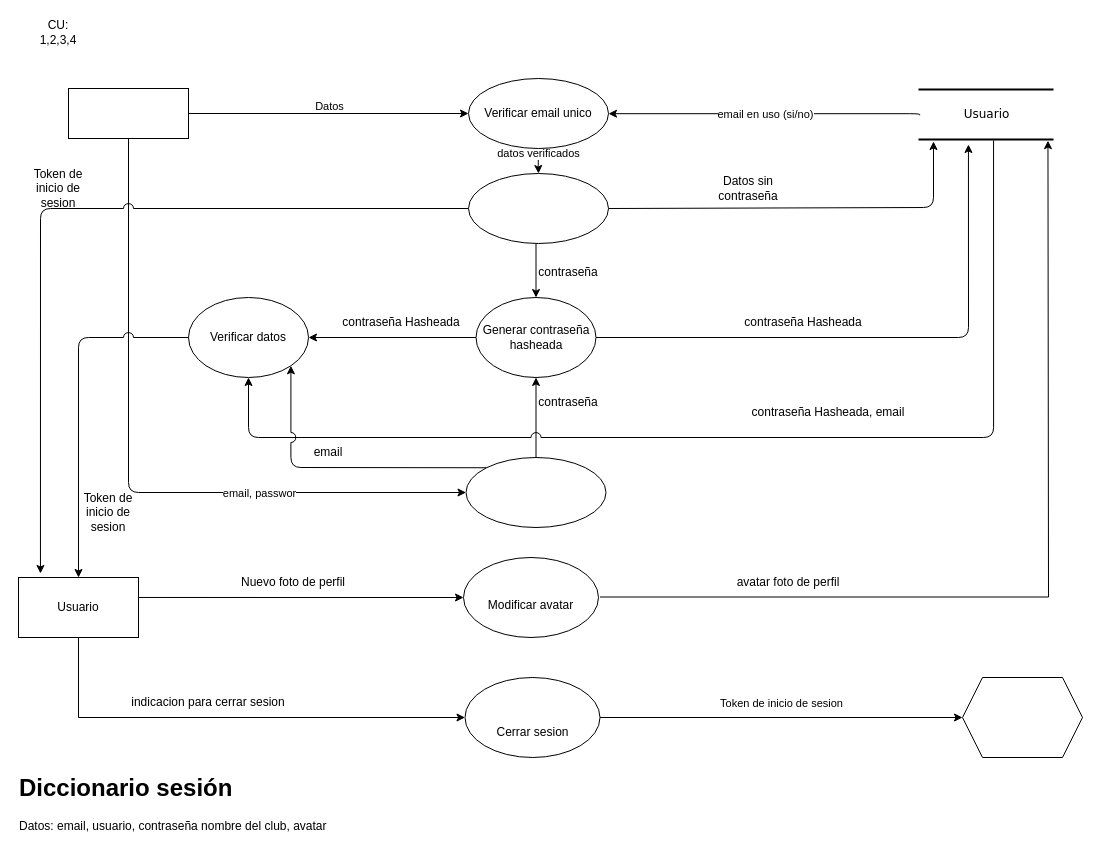
Some shapes in this 1100 by 857 pixel diagram are drawn without their labels. Each missing label, with the centre of its shape:
"Actor Externo" belongs at (128,113).
"Crear Usuario (Club)" belongs at (538,208).
"inicio de sesion" belongs at (535,492).
"Tokens Cancelados" belongs at (1022,717).
